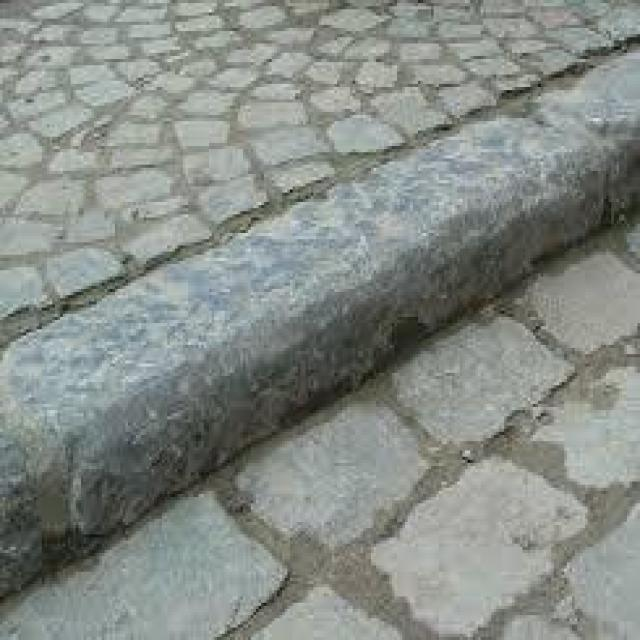curb: (1, 97, 618, 577)
